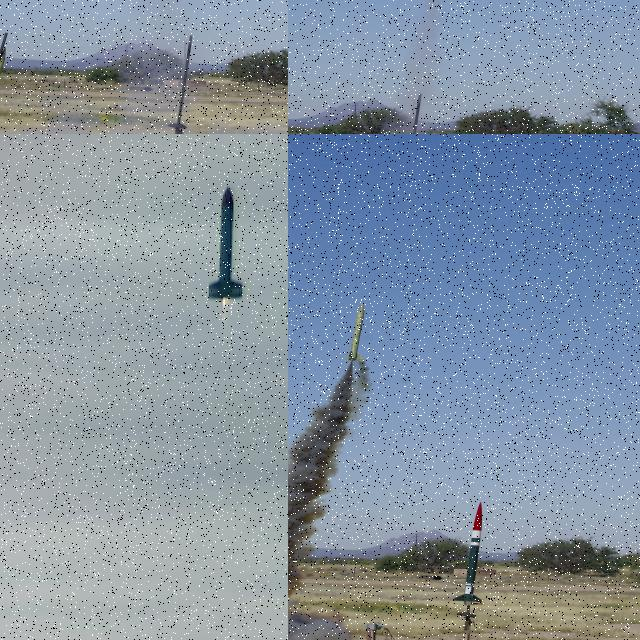Rocket: (206, 185, 244, 299), (453, 502, 483, 606), (345, 302, 366, 364)
